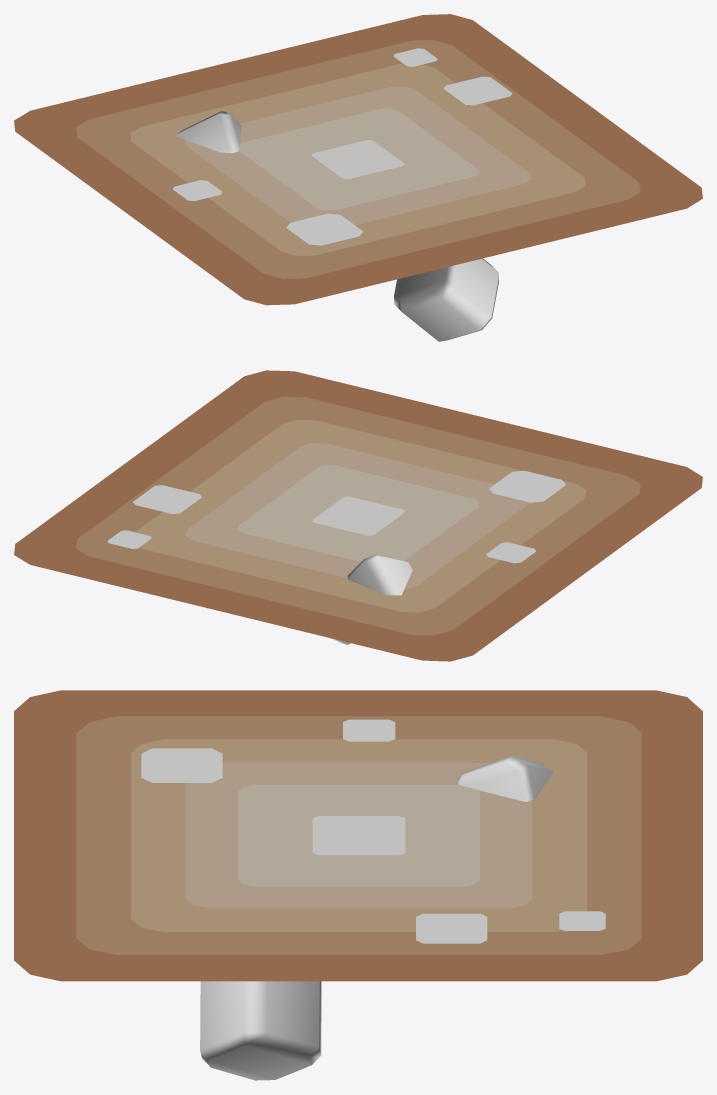
File: BC_cookrecipe_S_27.fbx
3 renders of one model, top to bottom at view 1: azimuth 30°, elevation 25°; view 2: azimuth 150°, elevation 25°; view 3: azimuth 270°, elevation 25°, orthographic. The views are drawn at different scales.
Visible parts, largest first — view 1: polySurface1, cube1, cube2, boko3, boko2, boko4, boko1; view 2: polySurface1, cube2, boko3, boko2, boko4, boko1; view 3: polySurface1, cube1, cube2, boko3, boko2, boko4, boko1.
Part boxes in pixels (x1,y1,x2,y2): polySurface1: [14, 14, 702, 305]; cube1: [394, 258, 498, 341]; cube2: [174, 111, 241, 153]; boko3: [286, 213, 362, 245]; boko2: [443, 76, 512, 105]; boko4: [173, 180, 222, 201]; boko1: [393, 48, 437, 66]; polySurface1: [14, 370, 702, 661]; cube2: [347, 554, 412, 595]; boko3: [489, 470, 565, 502]; boko2: [133, 485, 201, 513]; boko4: [486, 542, 535, 563]; boko1: [107, 530, 151, 548]; polySurface1: [14, 690, 702, 981]; cube1: [200, 981, 321, 1080]; cube2: [458, 756, 552, 801]; boko3: [141, 748, 222, 782]; boko2: [416, 913, 487, 943]; boko4: [343, 719, 395, 741]; boko1: [559, 911, 605, 930].
Size of the model in its own units: 3.5 by 1.36 by 3.5.
